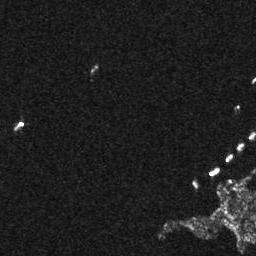ship: (208, 165, 220, 178), (13, 120, 24, 132), (224, 152, 233, 164), (192, 179, 199, 192), (247, 130, 256, 139), (236, 142, 244, 152)
